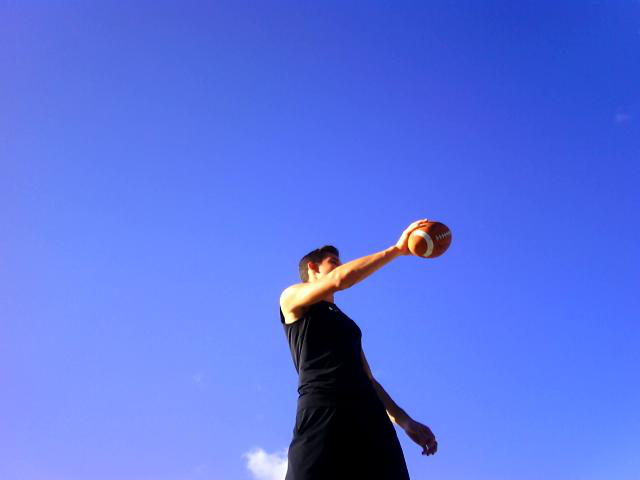footbal: (406, 220, 454, 257)
